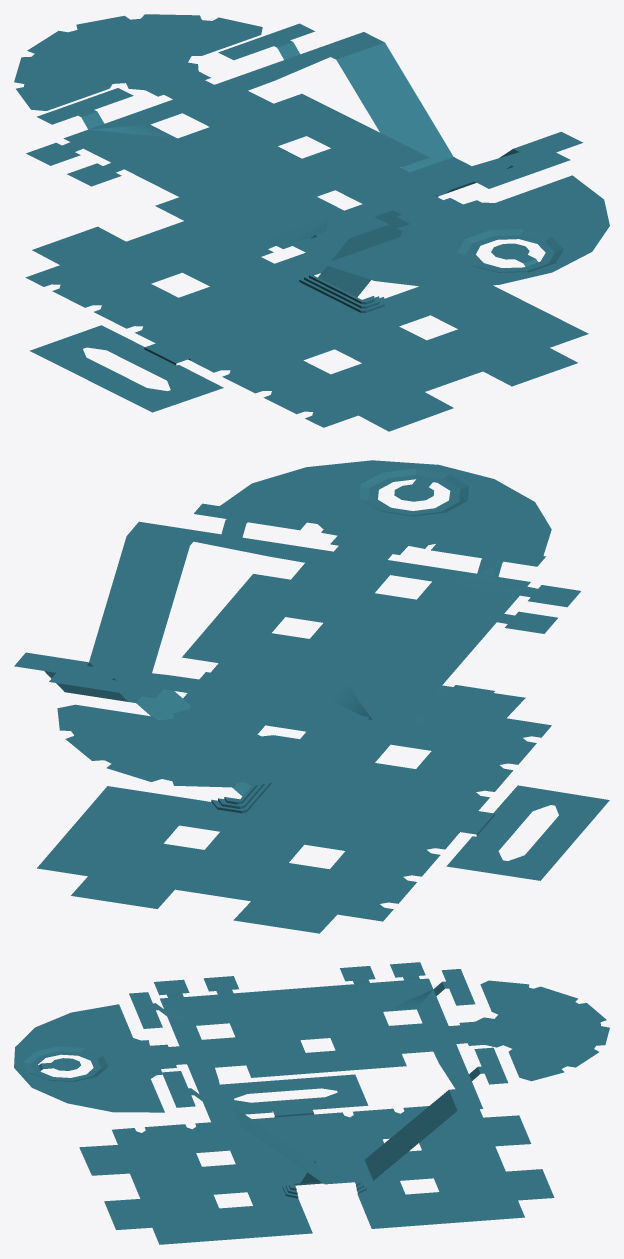
The model's file is col_mairie.max.fbx.
3 views of the same model, one above another, from view 1: azimuth 30°, elevation 25°; view 2: azimuth 150°, elevation 25°; view 3: azimuth 270°, elevation 25° (orthographic). The views are drawn at different scales.
Parts seen in each view (by area): view 1: col_mairie, colmairie1, colmairie2; view 2: col_mairie, colmairie1, colmairie2; view 3: col_mairie, colmairie1, colmairie2.
Part boxes in pixels (x1,y1,x2,y2): col_mairie: (14, 14, 609, 288); colmairie1: (25, 197, 588, 431); colmairie2: (309, 42, 519, 302); col_mairie: (14, 460, 580, 787); colmairie1: (37, 672, 609, 933); colmairie2: (44, 536, 255, 802); col_mairie: (14, 962, 609, 1128); colmairie1: (79, 1074, 554, 1244); colmairie2: (232, 1090, 457, 1188).
Size of the model in its own units: 42.99 by 14.8 by 59.63.
